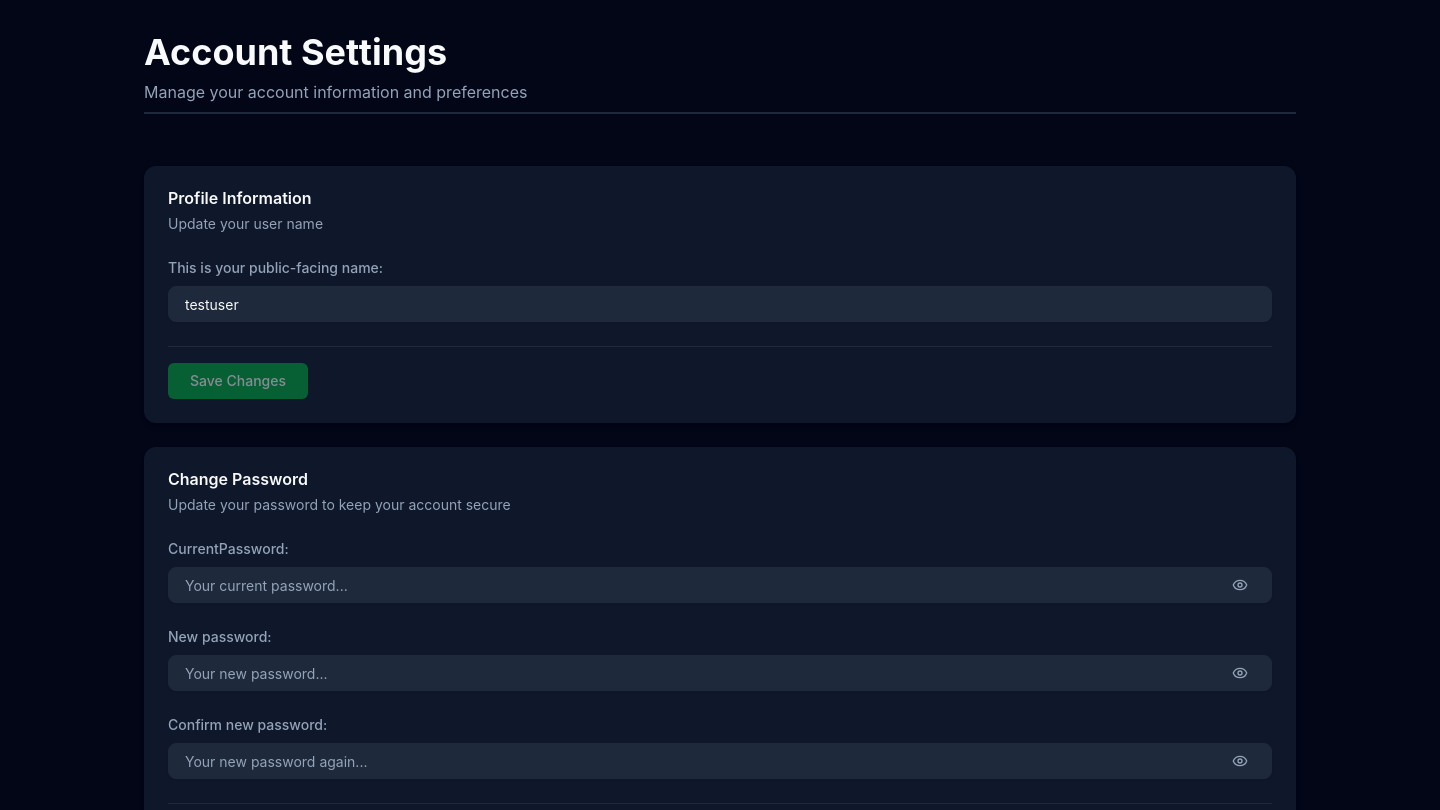
Test: Settings › shows validation error and blocks password mutation when confirmation does not match
Type "current-123" into the password field with placeholder "Your current password..." at [720, 585], box [168, 567, 1272, 603]
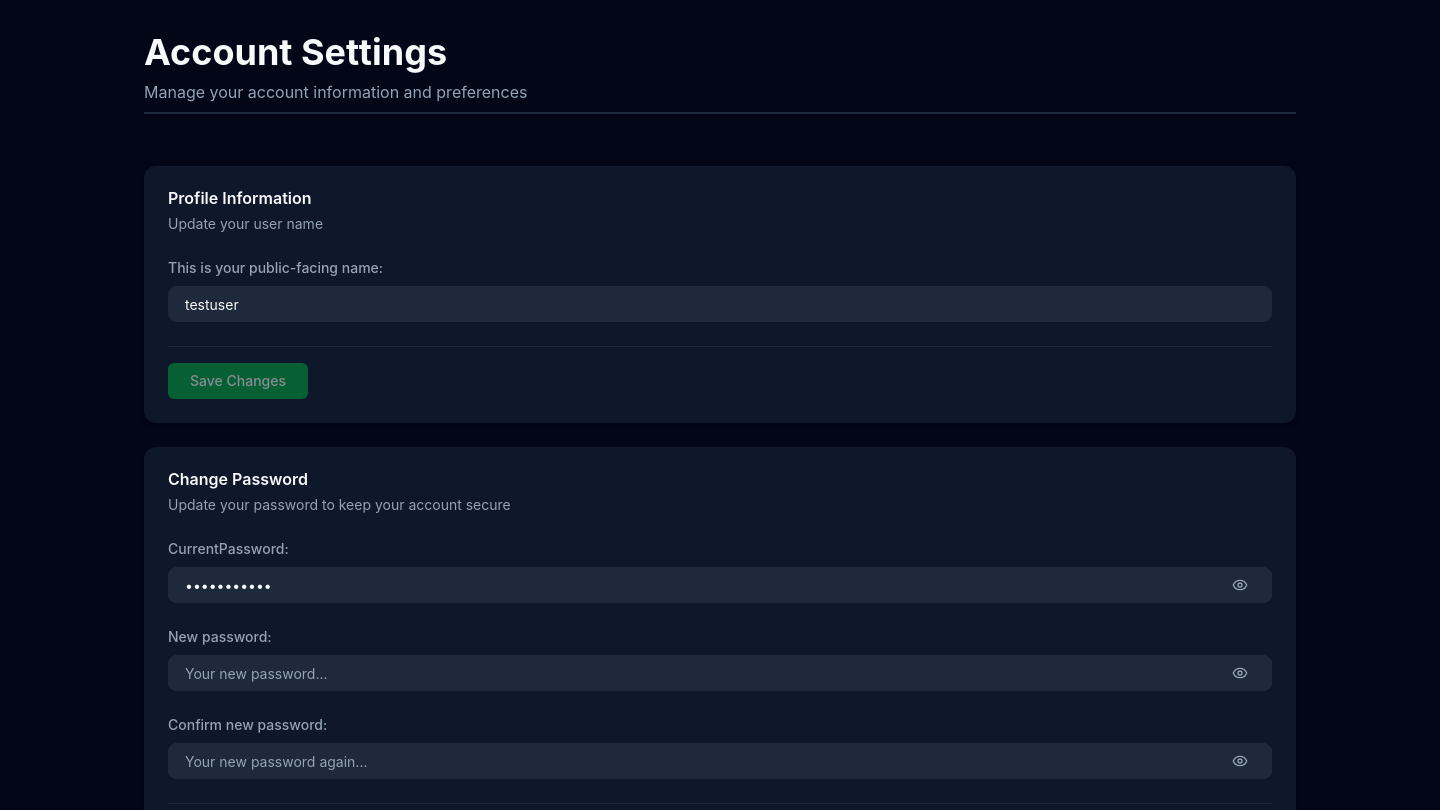
Type "new-password-123" into the password field with placeholder "Your new password..." at [720, 673], box [168, 655, 1272, 691]
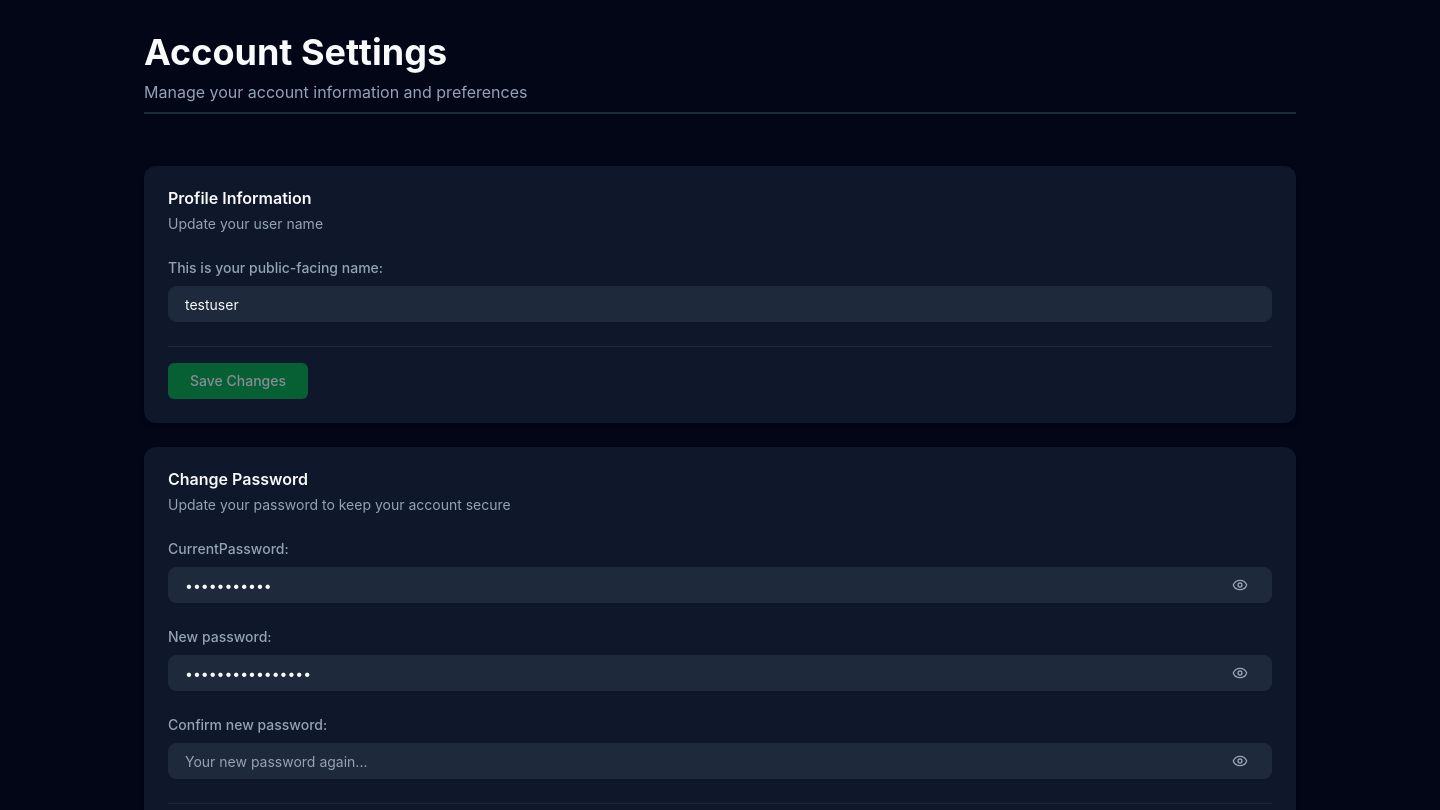
Type "different-password" into the password field with placeholder "Your new password again..." at [720, 761], box [168, 743, 1272, 779]
(page scrolled)
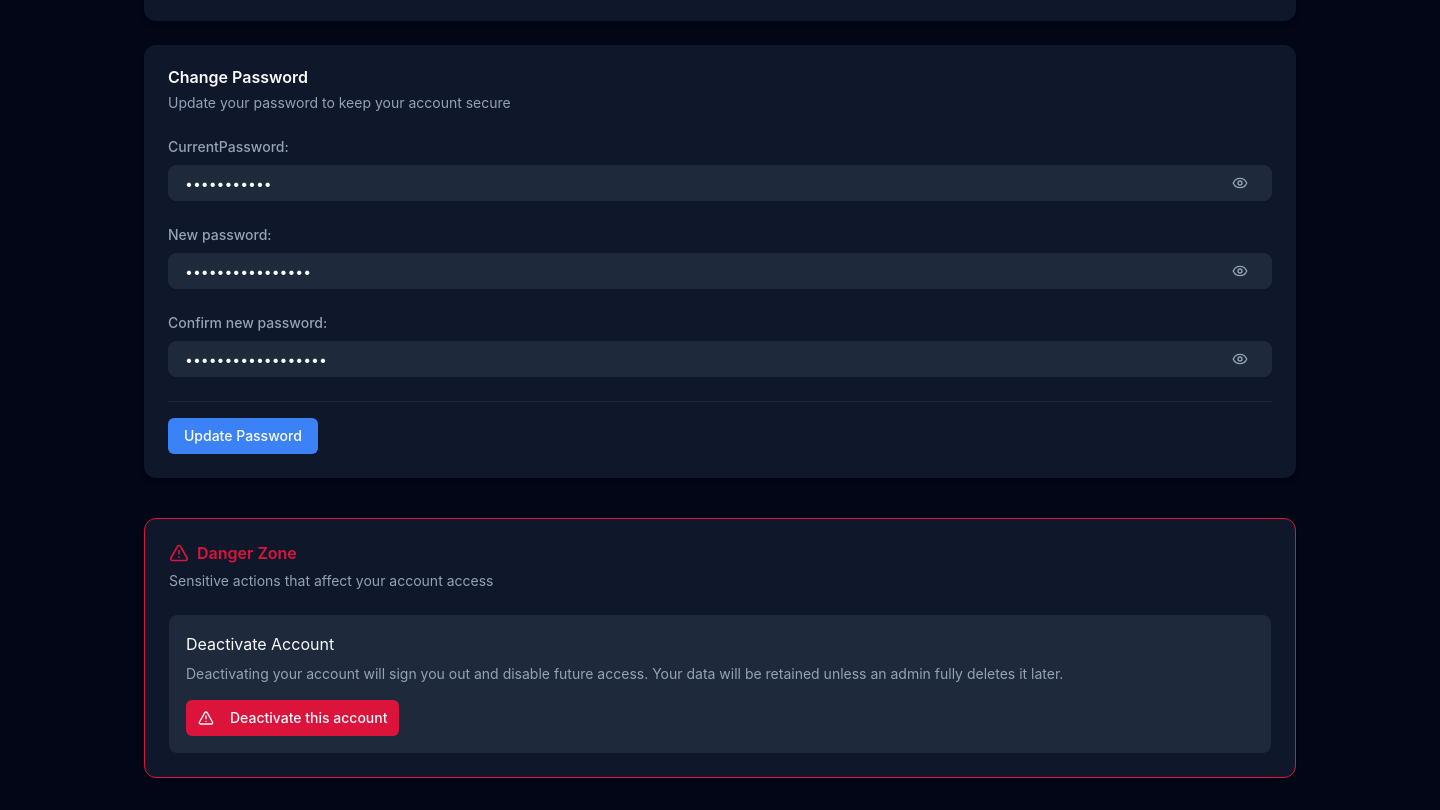
Click the button "Update Password" at [243, 436], box [168, 418, 318, 454]
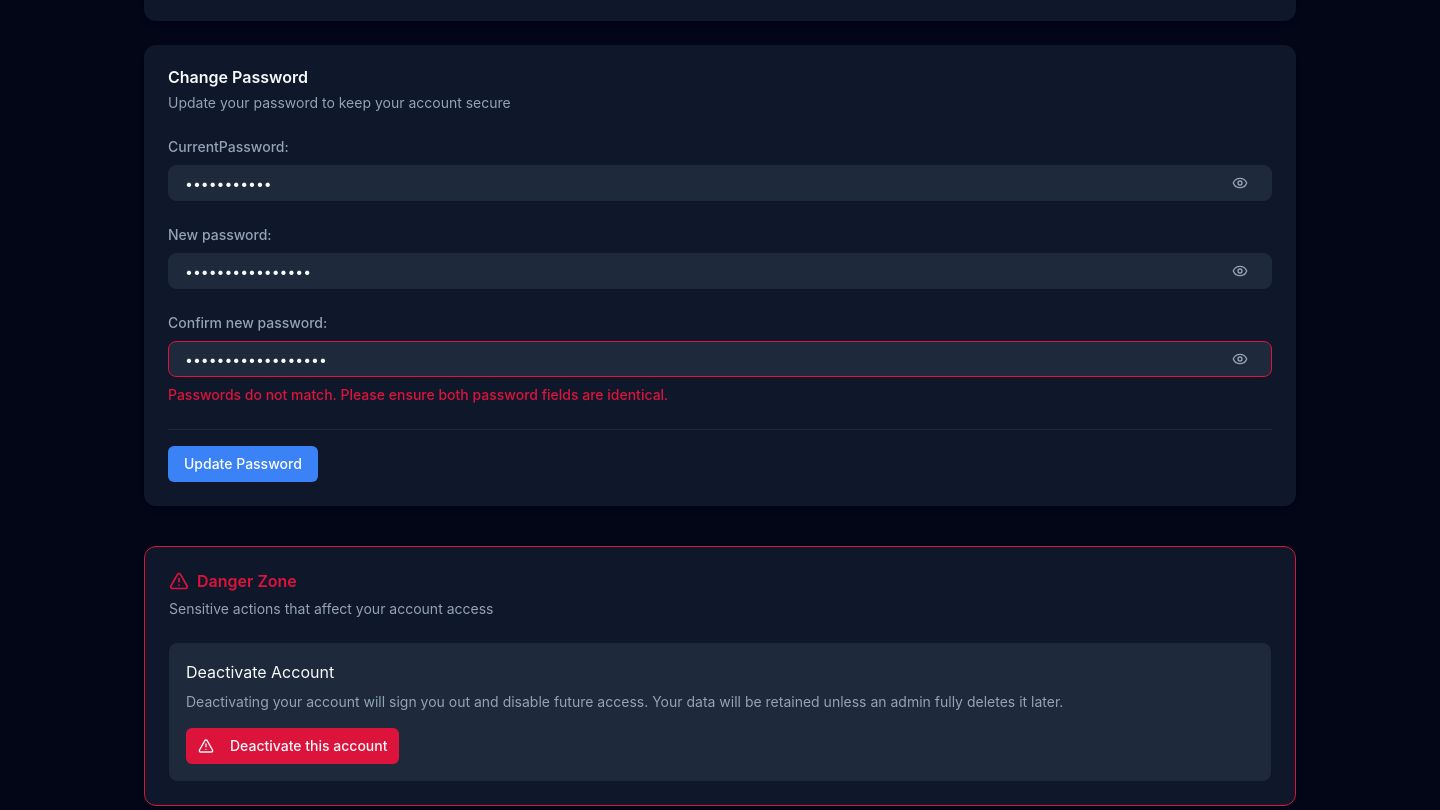
Check: the text "Passwords do not match. Please ensure both password fields are identical." is shown, box [168, 386, 668, 403]
